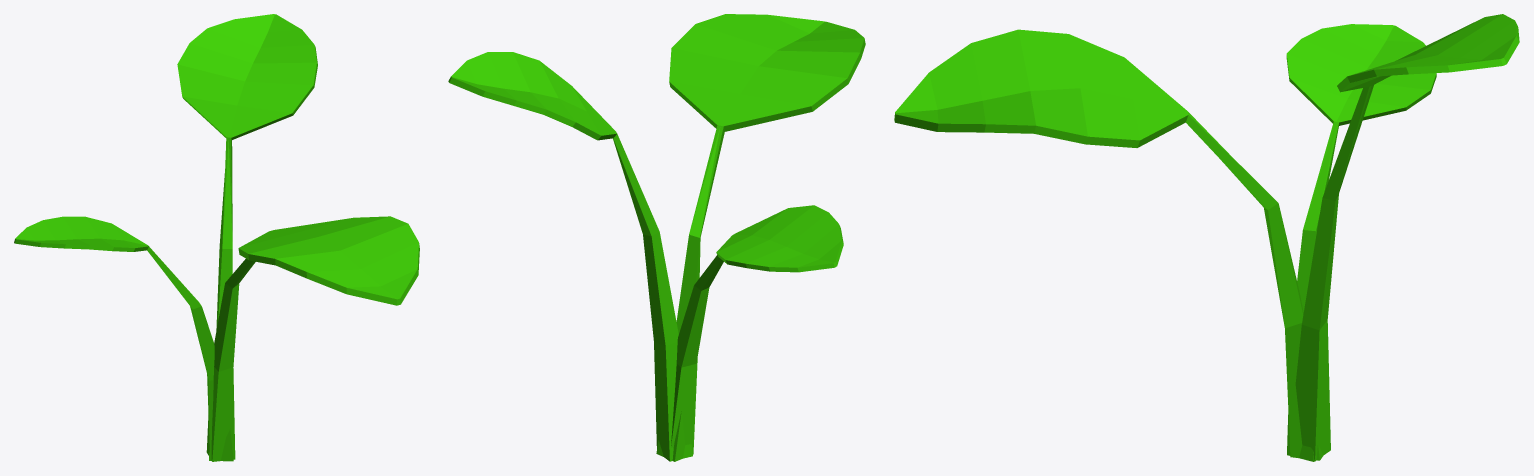
The model's file is potato_00.fbx.
3 views of the same model, side by side, from view 1: azimuth 30°, elevation 25°; view 2: azimuth 150°, elevation 25°; view 3: azimuth 270°, elevation 25° (orthographic). The views are drawn at different scales.
Parts seen in each view (by area): view 1: Cylinder; view 2: Cylinder; view 3: Cylinder.
Boxes of the visible parts, left/top/right/bottom form: Cylinder: left=14, top=14, right=419, bottom=461; Cylinder: left=448, top=14, right=865, bottom=461; Cylinder: left=894, top=14, right=1519, bottom=461.
Size of the model in its own units: 53.41 by 58.87 by 70.03.
